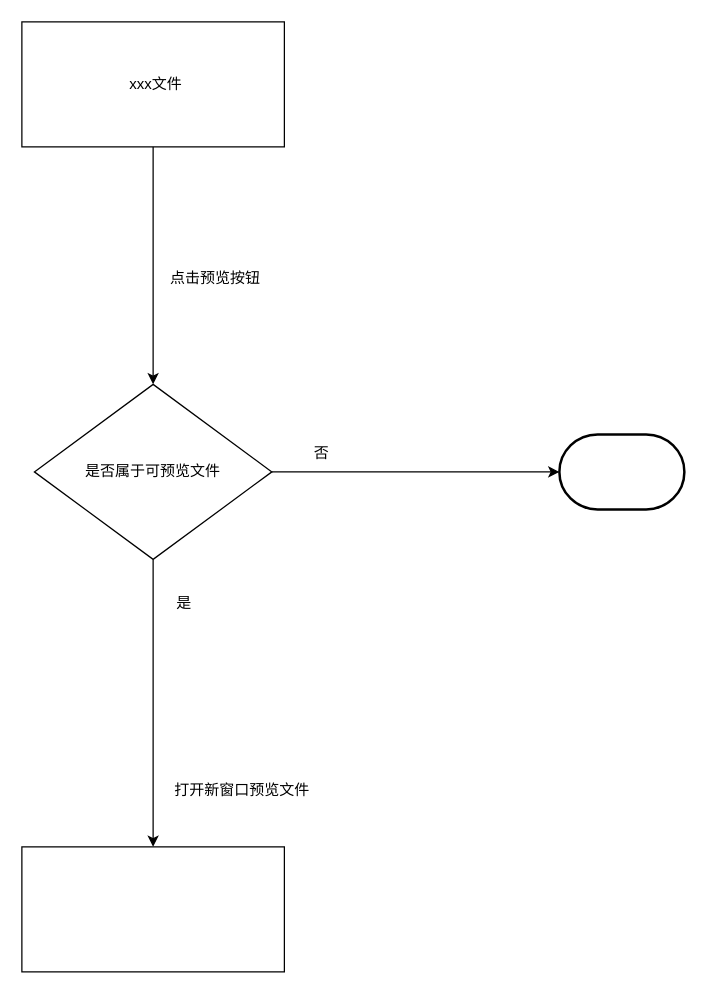
The diagram is 708 pixels wide and 994 high, and some of its shapes have lost their labels. Here are the shapes that lost their labels. From the top down, the centre of each, then its label:
At [621,471]: "下载文件".
At [152,909]: "预览xxx文件".
